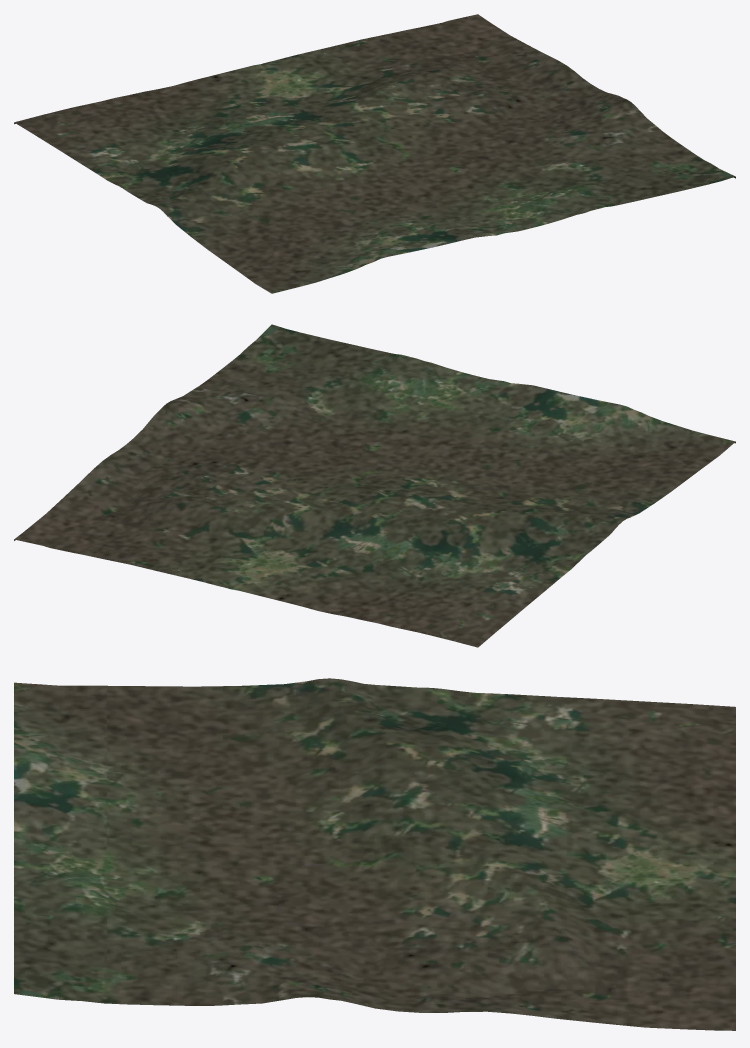
3 views of the same model, one above another, from view 1: azimuth 30°, elevation 25°; view 2: azimuth 150°, elevation 25°; view 3: azimuth 270°, elevation 25° (orthographic). The views are drawn at different scales.
Size of the model in its own units: 250 by 17 by 241.
Materials: 1 (1 with a texture image).
